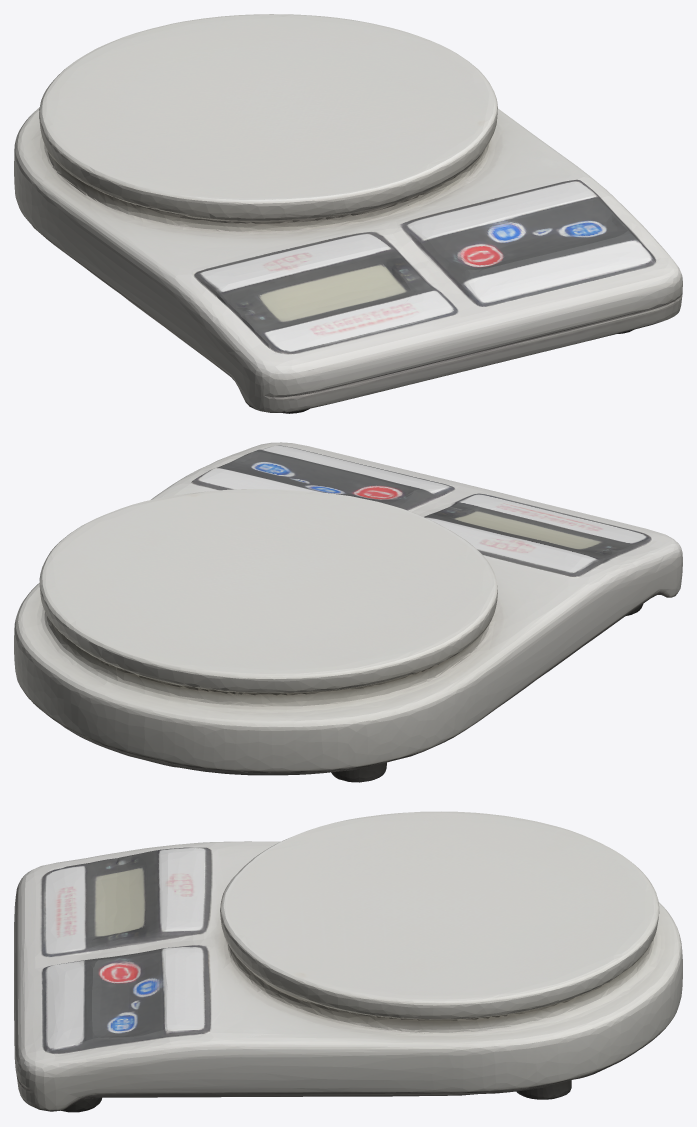
Rendered from scale.glb.
The picture shows the model from 3 angles, top to bottom: view 1: azimuth 30°, elevation 25°; view 2: azimuth 150°, elevation 25°; view 3: azimuth 270°, elevation 25°; orthographic projection.
Visible parts, largest first — view 1: world; view 2: world; view 3: world.
Boxes of the visible parts, left/top/right/bottom form: world: left=14, top=14, right=682, bottom=413; world: left=14, top=442, right=682, bottom=782; world: left=14, top=811, right=682, bottom=1112.
Bounding box in the file's own units: 0.7315 × 0.1999 × 1.
1 material, 1 textured.
